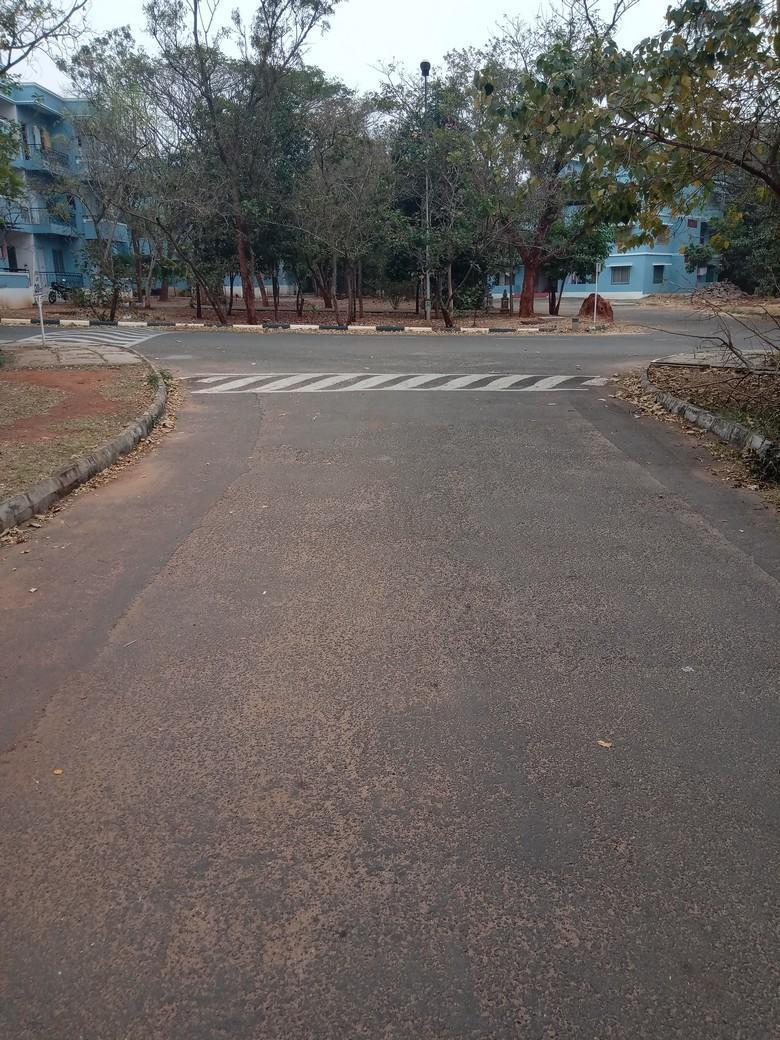speedbreaker: (158, 368, 640, 404)
